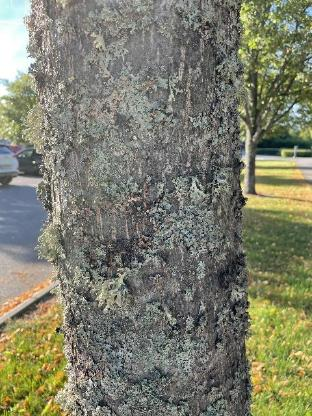tree: (19, 0, 266, 416)
